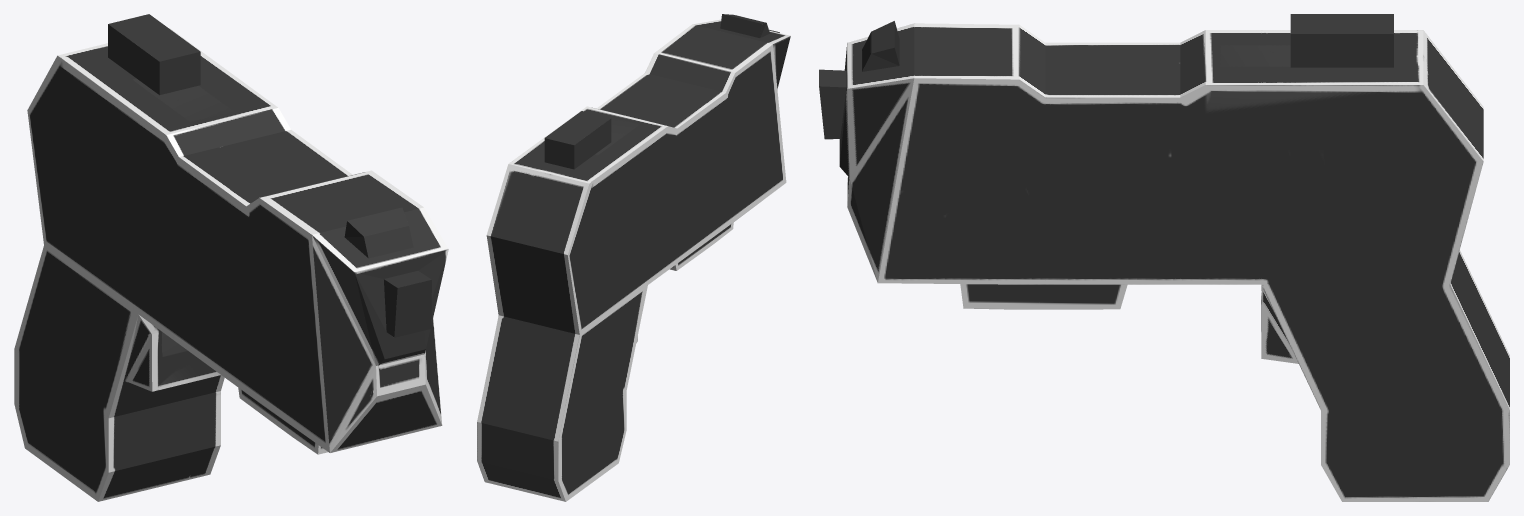
Rendered from hand_gun.fbx.
The picture shows the model from 3 angles, left to right: view 1: azimuth 30°, elevation 25°; view 2: azimuth 150°, elevation 25°; view 3: azimuth 270°, elevation 25°; orthographic projection. The views are drawn at different scales.
Parts seen in each view (by area): view 1: hand_gun; view 2: hand_gun; view 3: hand_gun.
Boxes of the visible parts, x1,y1,x2,y2 form: hand_gun: [14, 14, 448, 501]; hand_gun: [477, 14, 790, 501]; hand_gun: [819, 14, 1509, 501].
Size of the model in its own units: 57.99 by 222 by 308.
Materials: 1 (1 with a texture image).
